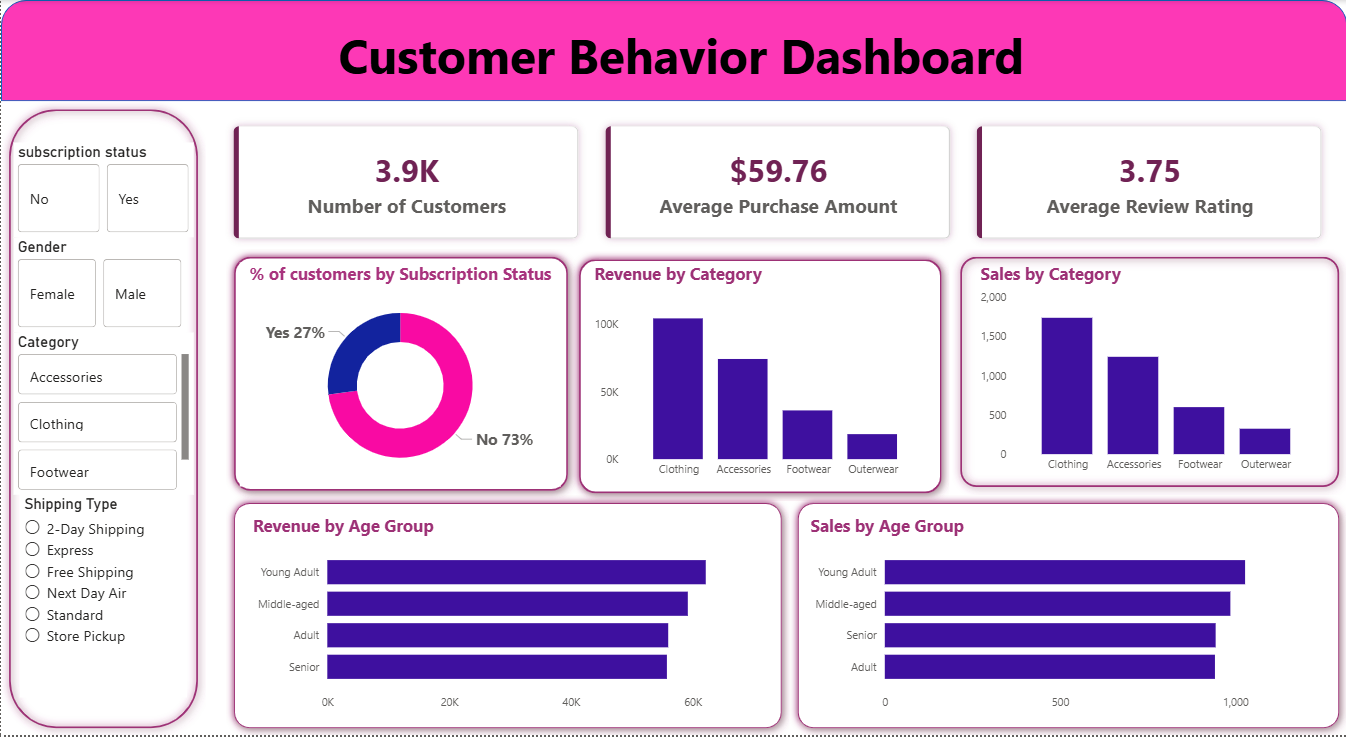

What the dashboard file says about the page in this screenshot:
{"tool":"powerbi","page":{"name":"Page 1","canvas":[1500,820],"ordinal":0},"visuals":[{"type":"cardVisual","fields":{"Data":["public customer.Number of Customers","public customer.Average Purchase Amount","public customer.Average Review Rating"]},"box":[217.3,112.8,1268.7,196.4],"z":0},{"type":"shape","box":[0,0,1499.9,112.8],"z":1000},{"type":"textbox","box":[0,19.2,1280.3,93.3],"z":2000},{"type":"shape","box":[239.5,298,389.9,278.5],"z":3000},{"type":"donutChart","title":"% of customers by Subscription Status","fields":{"Category":["public customer.subscription_status"],"Y":["CountNonNull(public customer.customer_id)"]},"box":[254.9,313.4,357.9,249.3],"z":4000},{"type":"shape","box":[640.6,302.2,422,278.5],"z":5000},{"type":"shape","box":[1072.4,291.1,413.6,291.1],"z":6000},{"type":"clusteredColumnChart","title":"Revenue by Category","fields":{"Y":["Sum(public customer.purchase_amount)"],"Category":["public customer.category"]},"box":[661.5,317.5,378.8,249.3],"z":6001},{"type":"clusteredColumnChart","title":"Sales by Category","fields":{"Y":["Count(public customer.customer_id)"],"Category":["public customer.category"]},"box":[1090.5,303.6,377.4,263.2],"z":6002},{"type":"shape","box":[0,112.8,228.4,707.5],"z":6003},{"type":"advancedSlicerVisual","title":"subscription status","fields":{"Values":["public customer.subscription_status"]},"box":[13.9,158.8,200.5,105.8],"z":6004},{"type":"advancedSlicerVisual","title":"Gender","fields":{"Values":["public customer.gender"]},"box":[13.9,264.6,200.5,105.8],"z":6005},{"type":"advancedSlicerVisual","title":"subscription status","fields":{"Values":["public customer.category"]},"box":[13.9,370.5,200.5,261.8],"z":6006}]}

Visuals, with their boxes in screenshot pixels (x1, y1, x2, y2), scaled from the page's 1500x820 canvas onto the 1346x737 screenshot:
cardVisual - public customer.Number of Customers x public customer.Average Purchase Amount: locate(195, 101, 1333, 278)
shape: locate(0, 0, 1345, 101)
textbox: locate(0, 17, 1149, 101)
shape: locate(215, 268, 565, 518)
"% of customers by Subscription Status" donutChart: locate(229, 282, 550, 506)
shape: locate(575, 272, 954, 522)
shape: locate(962, 262, 1333, 523)
"Revenue by Category" clusteredColumnChart: locate(594, 285, 933, 509)
"Sales by Category" clusteredColumnChart: locate(979, 273, 1317, 509)
shape: locate(0, 101, 205, 736)
"subscription status" advancedSlicerVisual: locate(12, 143, 192, 238)
"Gender" advancedSlicerVisual: locate(12, 238, 192, 333)
"subscription status" advancedSlicerVisual: locate(12, 333, 192, 568)
